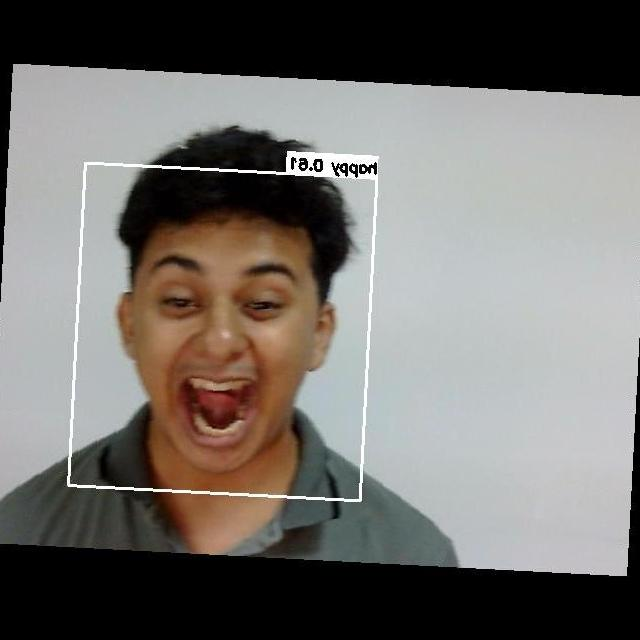Surprised: (122, 224, 317, 462)
